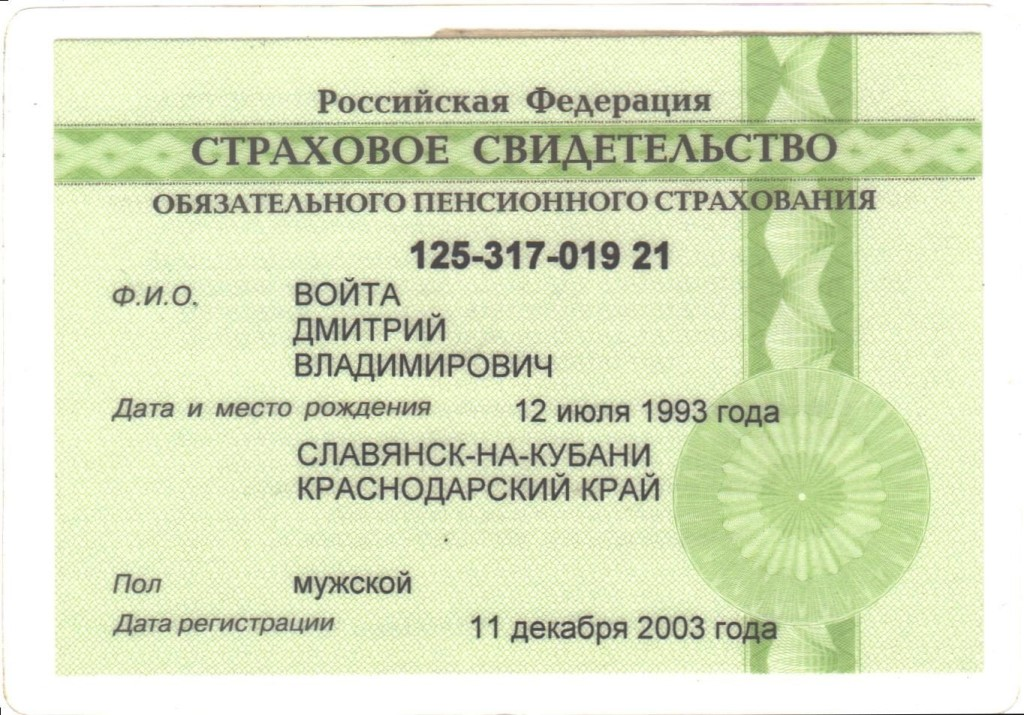text: (288, 433, 663, 512), (456, 606, 785, 647), (398, 232, 679, 275), (284, 350, 558, 384), (516, 397, 784, 430), (278, 308, 455, 348), (275, 565, 429, 598), (284, 277, 410, 309)
